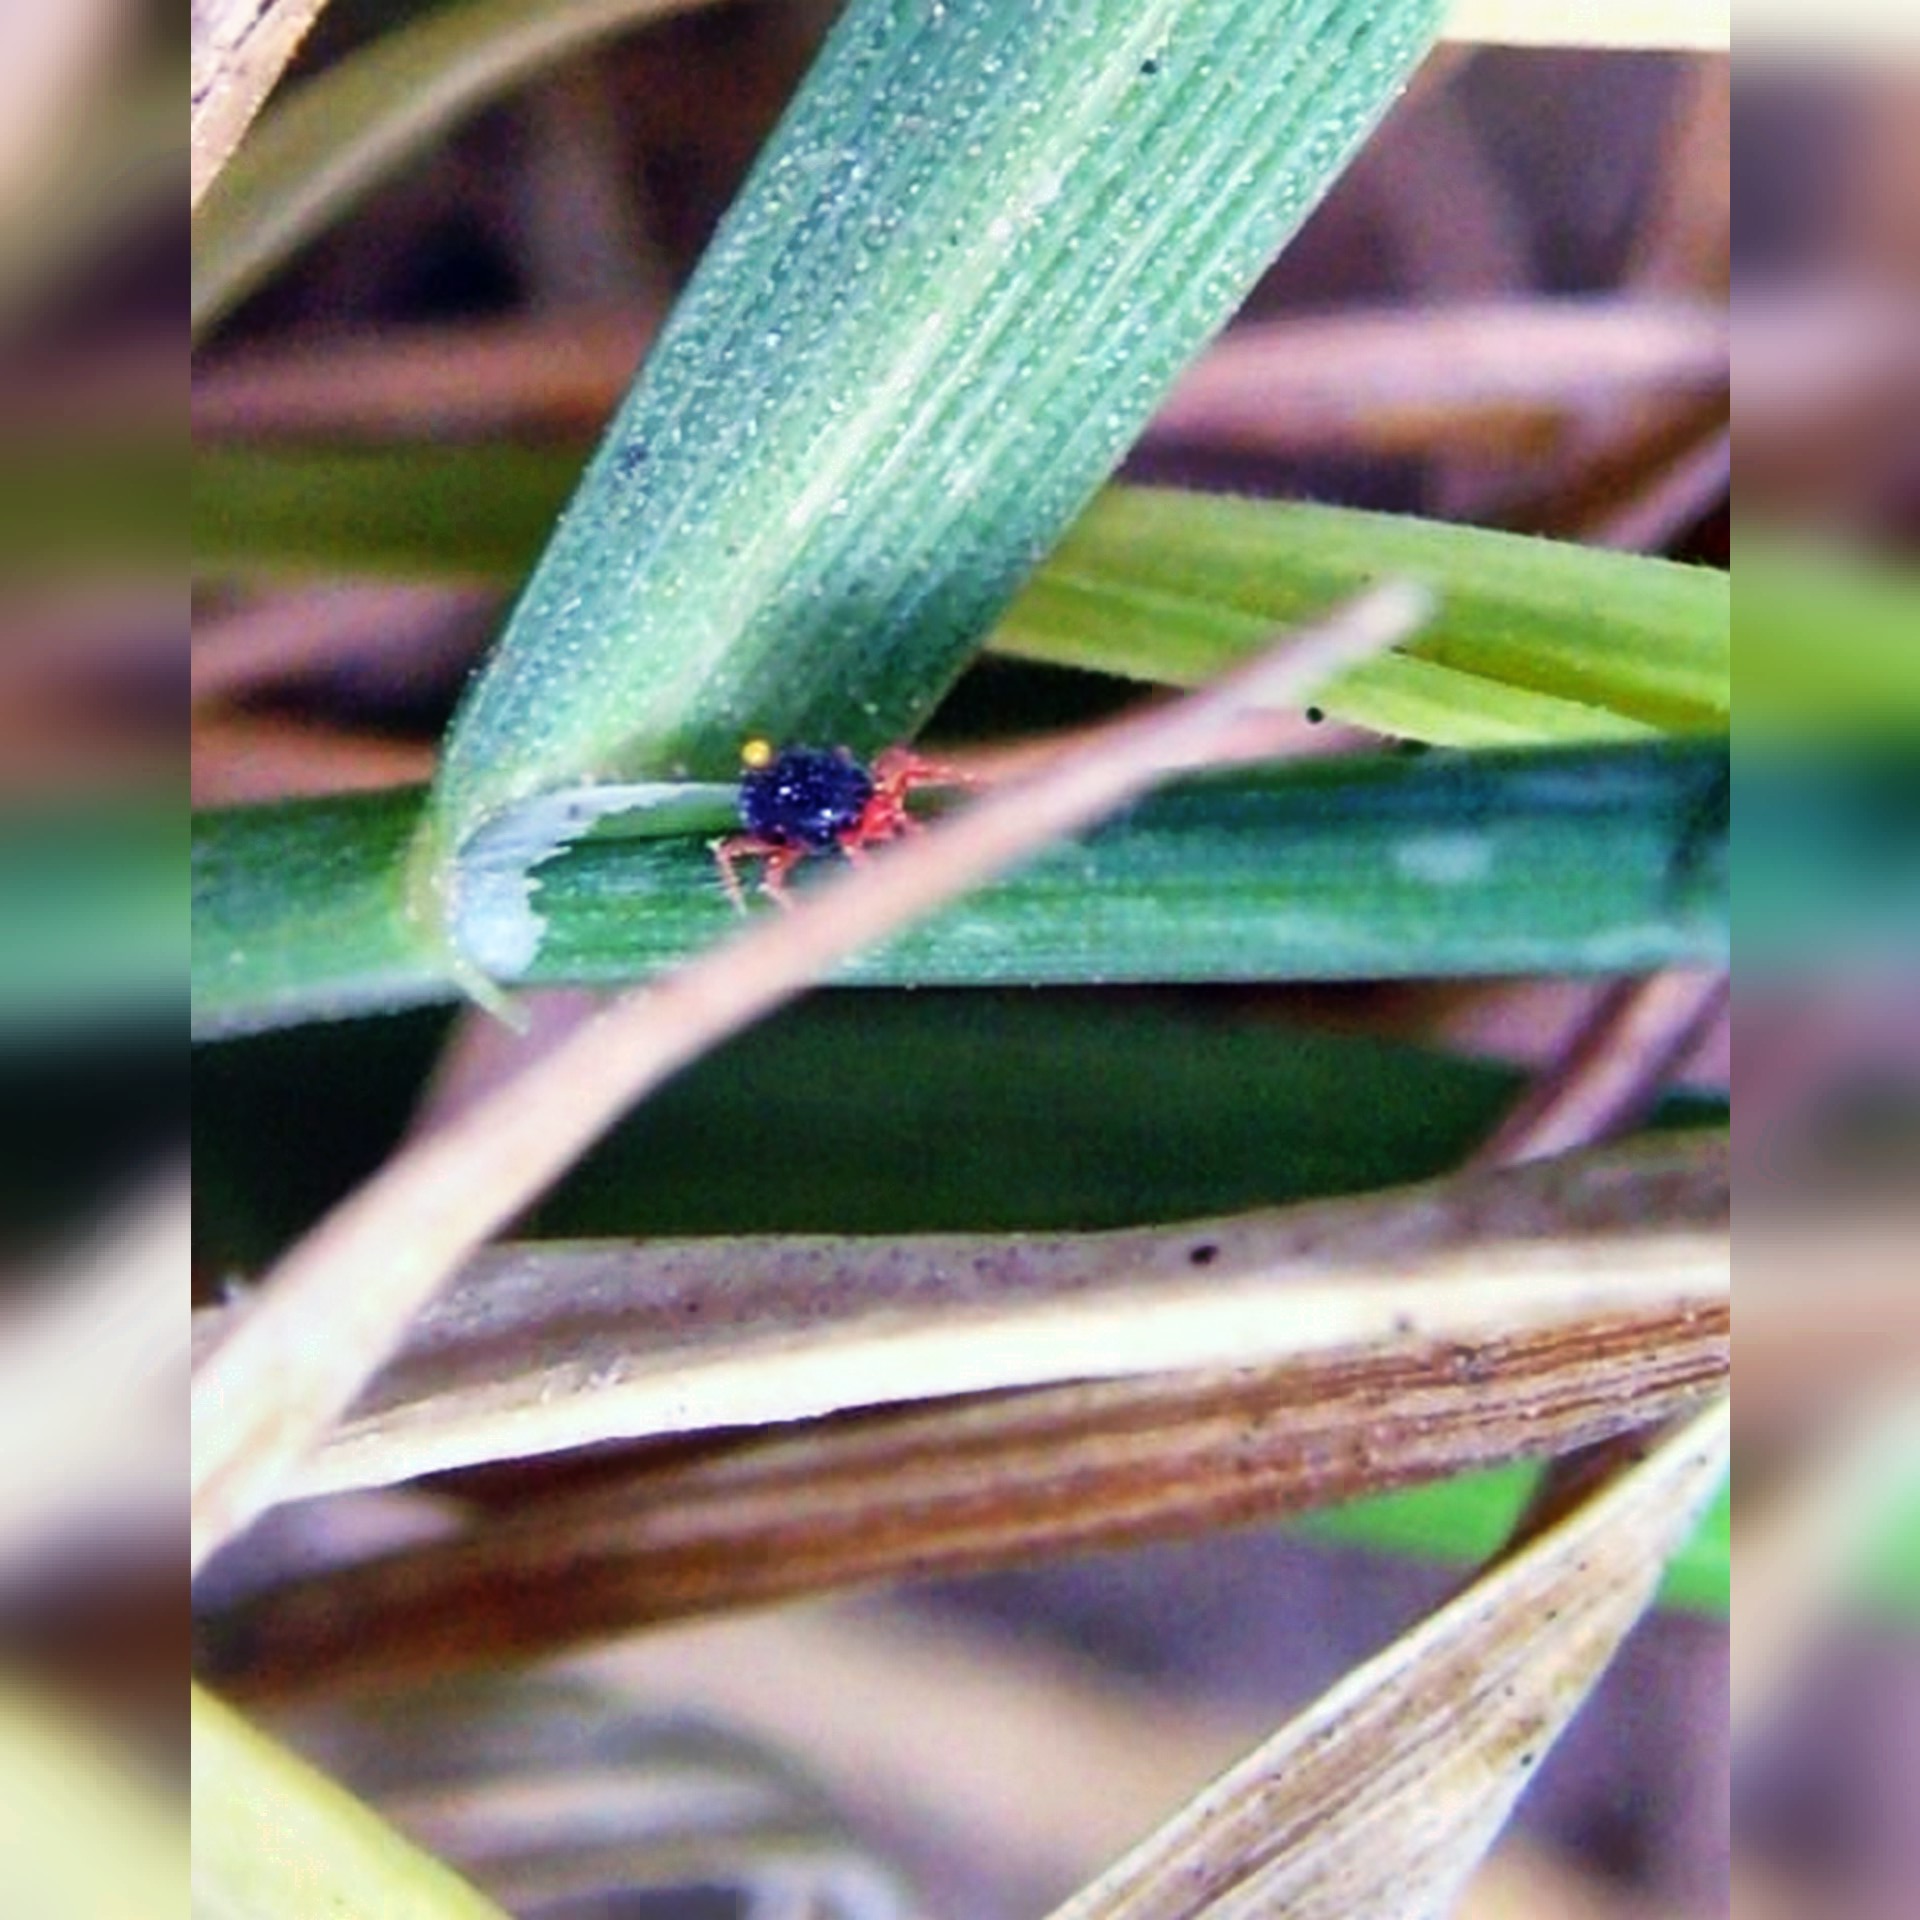Wheat Red Spider: (686, 723, 993, 937)
